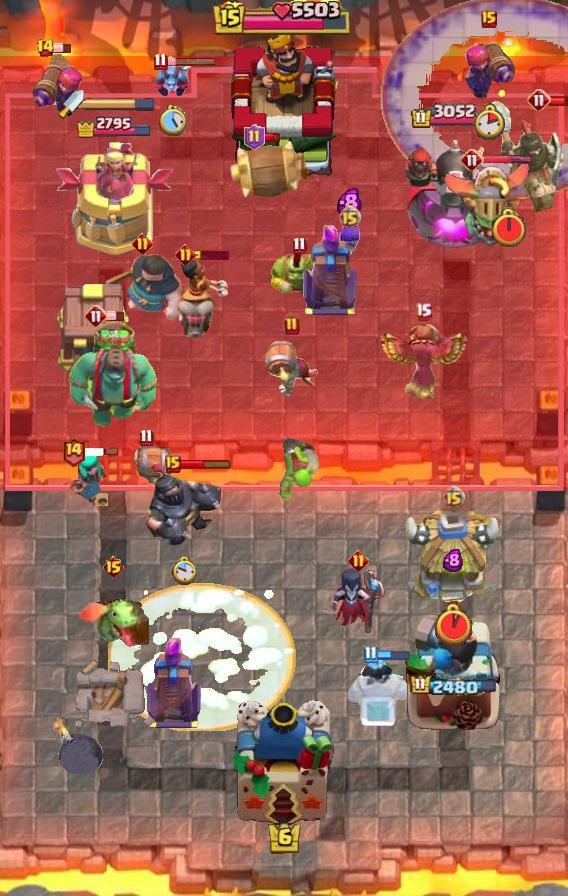baby-dragon: (52, 715, 104, 777)
bar: (54, 142, 173, 256)
bar-level: (271, 438, 321, 504)
bomb: (52, 280, 132, 374)
clock: (213, 0, 355, 38)
electro-spirit: (337, 187, 362, 217), (443, 548, 463, 572)
electro-wizard: (77, 584, 149, 650)
elite-barbarian: (170, 254, 232, 348)
elixir: (436, 602, 473, 647), (490, 207, 528, 249), (473, 104, 505, 141), (159, 105, 187, 136), (171, 555, 197, 586)
emote: (179, 458, 233, 470), (165, 56, 217, 67), (481, 154, 533, 165), (376, 648, 412, 661), (193, 250, 229, 260), (83, 447, 119, 457), (548, 93, 567, 106), (52, 42, 72, 53), (262, 133, 281, 144), (106, 311, 125, 322)
flying-machine: (269, 249, 329, 303)
goblin: (337, 221, 362, 257)
golden-knight: (375, 323, 471, 401)
ice-spirit-evolution-symbol: (300, 225, 360, 317), (144, 638, 204, 730)
inferno-dragon: (484, 98, 568, 214)
king-tower: (222, 31, 346, 181), (234, 700, 334, 826)
king-tower-bar: (84, 97, 156, 111)
knight: (264, 340, 320, 400), (121, 445, 171, 499)
lava-hound: (66, 319, 160, 429)
mega-minion: (461, 26, 517, 102), (28, 50, 84, 122)
night-witch: (442, 160, 536, 248)
phoenix-big: (108, 583, 296, 731)
prince: (402, 511, 504, 607)
rage: (344, 656, 424, 726)
rascal-boy: (329, 566, 387, 636)
rocket: (381, 0, 567, 200)
royal-delivery: (152, 59, 194, 97)
royal-guardian: (142, 462, 226, 548)
royal-hog: (101, 251, 183, 323)
selected: (411, 102, 498, 129), (410, 674, 499, 698), (75, 114, 153, 138)
text: (62, 436, 87, 467), (527, 88, 551, 112), (460, 148, 484, 172), (84, 304, 108, 328), (102, 555, 125, 579), (243, 124, 264, 150), (338, 204, 361, 227), (443, 484, 466, 507), (131, 233, 153, 254), (176, 243, 197, 265), (348, 549, 369, 571), (36, 38, 56, 58), (415, 302, 433, 321), (284, 316, 300, 336), (481, 10, 497, 28), (165, 455, 181, 473), (138, 428, 153, 447), (362, 645, 377, 664), (153, 52, 167, 71), (293, 237, 307, 256)
the-log: (227, 138, 311, 200)
tower-bar: (401, 132, 508, 256), (402, 615, 504, 731)
witch: (66, 454, 108, 506)
